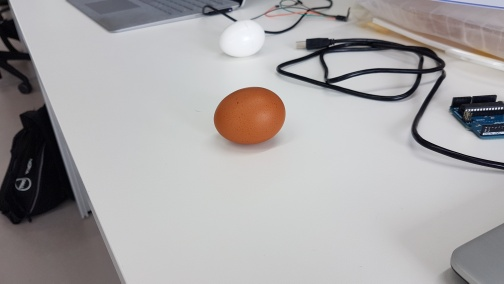egg: (212, 84, 288, 147), (218, 19, 267, 57)
